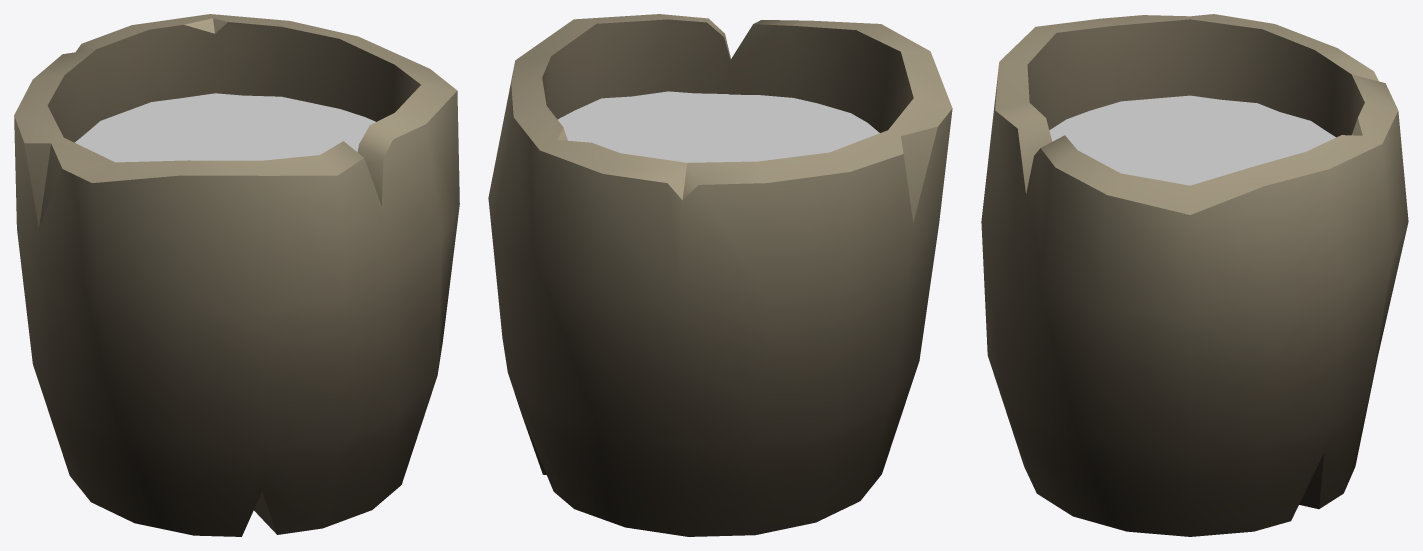
The model's file is Tannery_Bowl_1A.fbx.
3 renders of one model, left to right at view 1: azimuth 30°, elevation 25°; view 2: azimuth 150°, elevation 25°; view 3: azimuth 270°, elevation 25°, orthographic. The views are drawn at different scales.
Parts seen in each view (by area): view 1: Tannery_Bowl_1A; view 2: Tannery_Bowl_1A; view 3: Tannery_Bowl_1A.
Part boxes in pixels (x1,y1,x2,y2): Tannery_Bowl_1A: (14, 14, 459, 536); Tannery_Bowl_1A: (488, 14, 952, 536); Tannery_Bowl_1A: (981, 14, 1408, 536).
Bounding box in the file's own units: 115 × 106 × 109.
